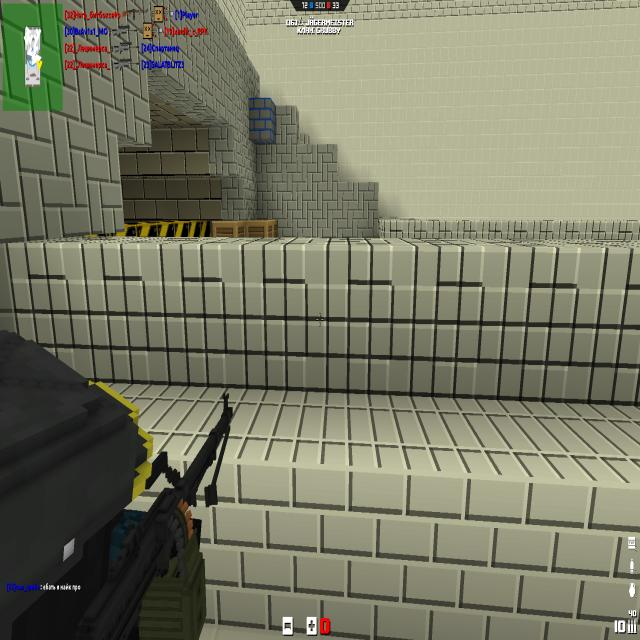player: (0, 350, 153, 637)
